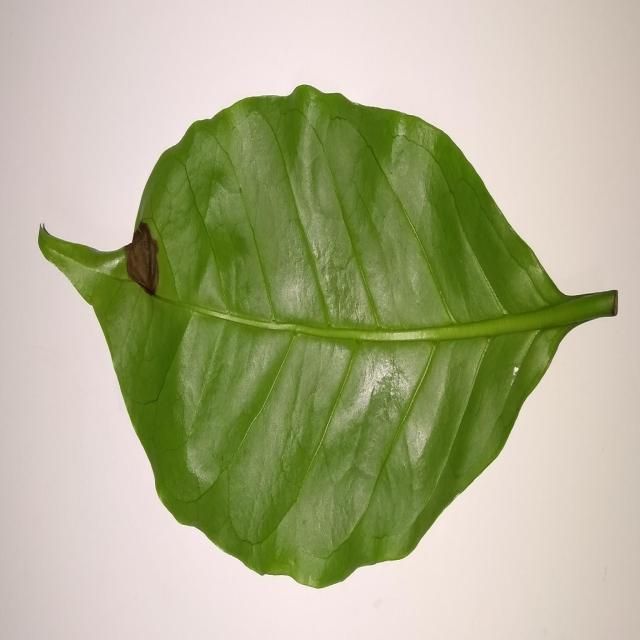phoma: (125, 221, 159, 295)
